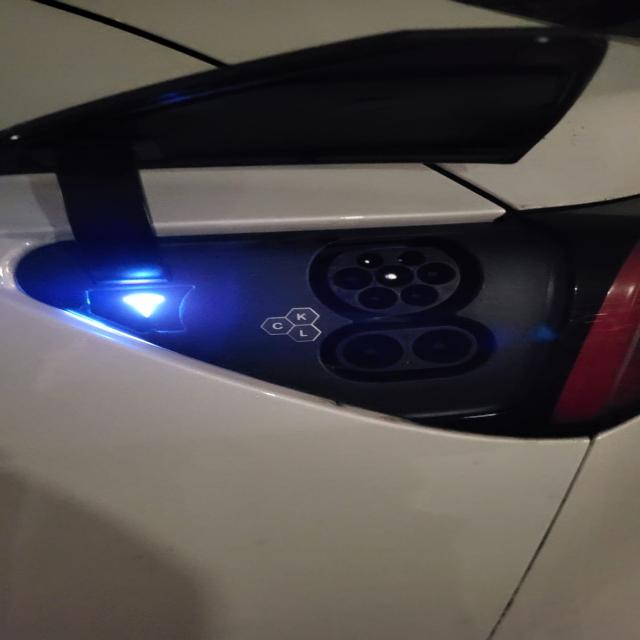inlet: (328, 247, 460, 313)
inlet-above-left: (355, 252, 384, 268)
inlet-above-right: (396, 250, 426, 266)
inlet-below-left: (358, 287, 397, 310)
inlet-below-right: (400, 284, 439, 306)
inlet-circle: (375, 265, 415, 287)
inlet-circle-left: (332, 267, 373, 290)
inlet-circle-right: (416, 262, 456, 285)
inlet-minus: (411, 329, 471, 363)
inlet-plus: (342, 334, 404, 369)
